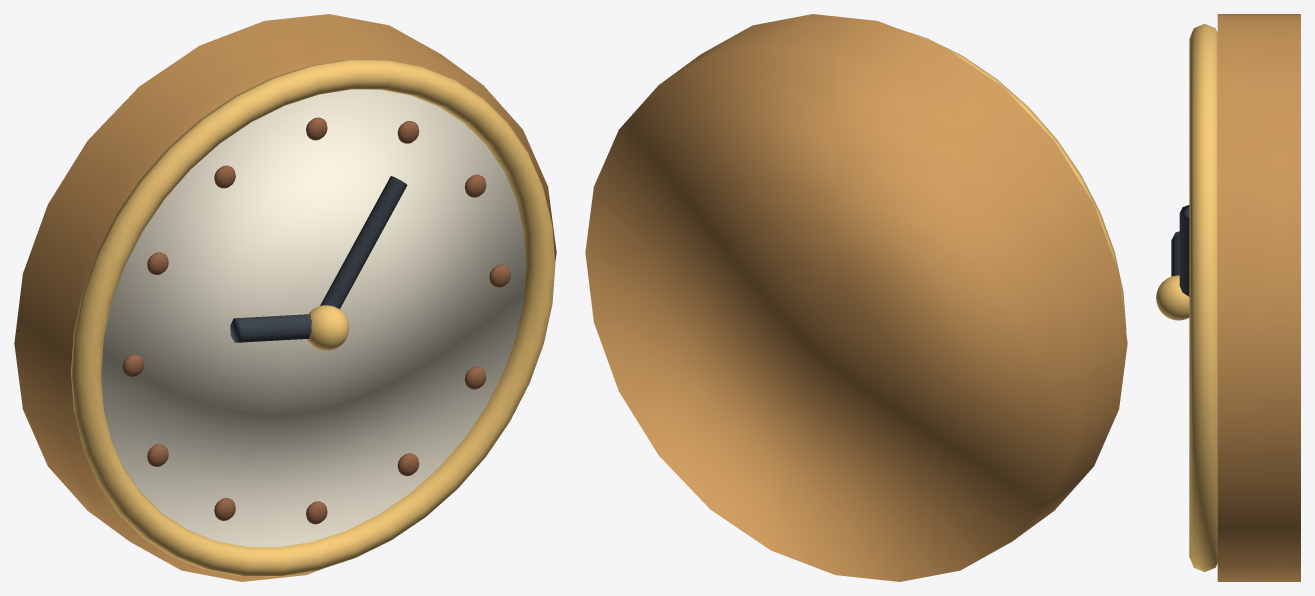
File: CLOCK.glb
3 renders of one model, left to right at view 1: azimuth 30°, elevation 25°; view 2: azimuth 150°, elevation 25°; view 3: azimuth 270°, elevation 25°, orthographic.
Parts seen in each view (by area): view 1: CLOCK; view 2: CLOCK; view 3: CLOCK.
Boxes of the visible parts, x1,y1,x2,y2 form: CLOCK: [14, 14, 556, 581]; CLOCK: [585, 14, 1127, 581]; CLOCK: [1156, 14, 1300, 581].
Size of the model in its own units: 0.48 by 0.48 by 0.122.
Materials: 5 (1 with a texture image).
